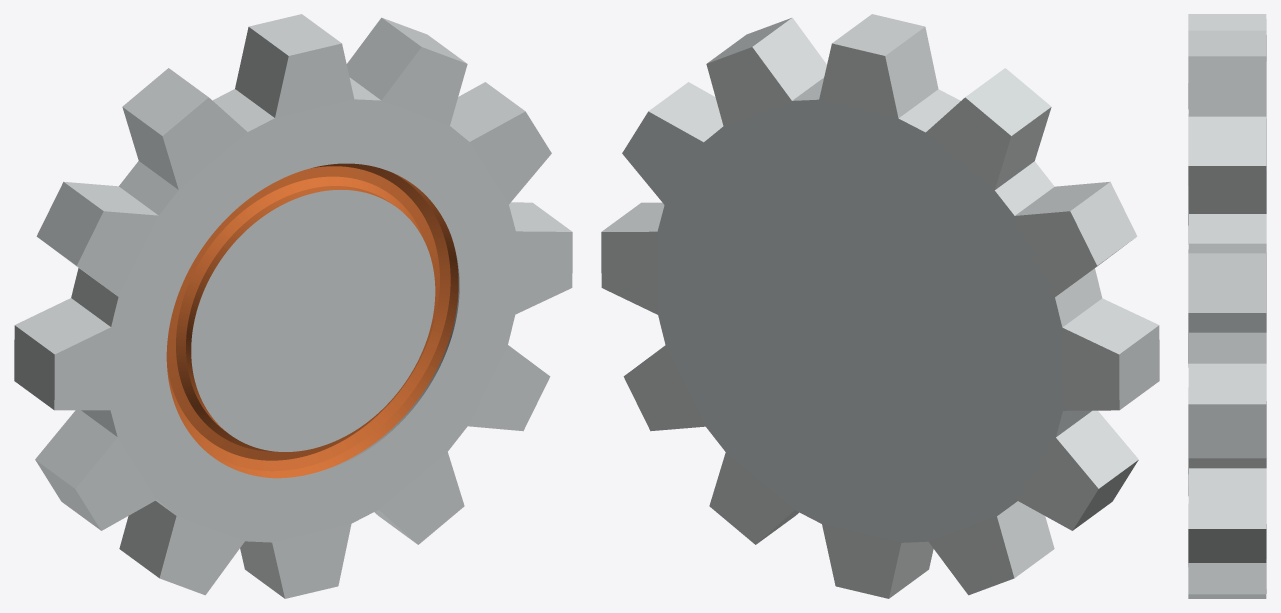
File: orange-gear.gltf
3 views of the same model, side by side, from view 1: azimuth 30°, elevation 25°; view 2: azimuth 150°, elevation 25°; view 3: azimuth 270°, elevation 25° (orthographic). The views are drawn at different scales.
Parts seen in each view (by area): view 1: Cylinder.001; view 2: Cylinder.001; view 3: Cylinder.001.
Boxes of the visible parts, bbox=[...] form: Cylinder.001: bbox=[14, 14, 572, 598]; Cylinder.001: bbox=[601, 14, 1159, 598]; Cylinder.001: bbox=[1188, 14, 1266, 598].
Bounding box in the file's own units: 1.95 × 1.95 × 0.2627.
